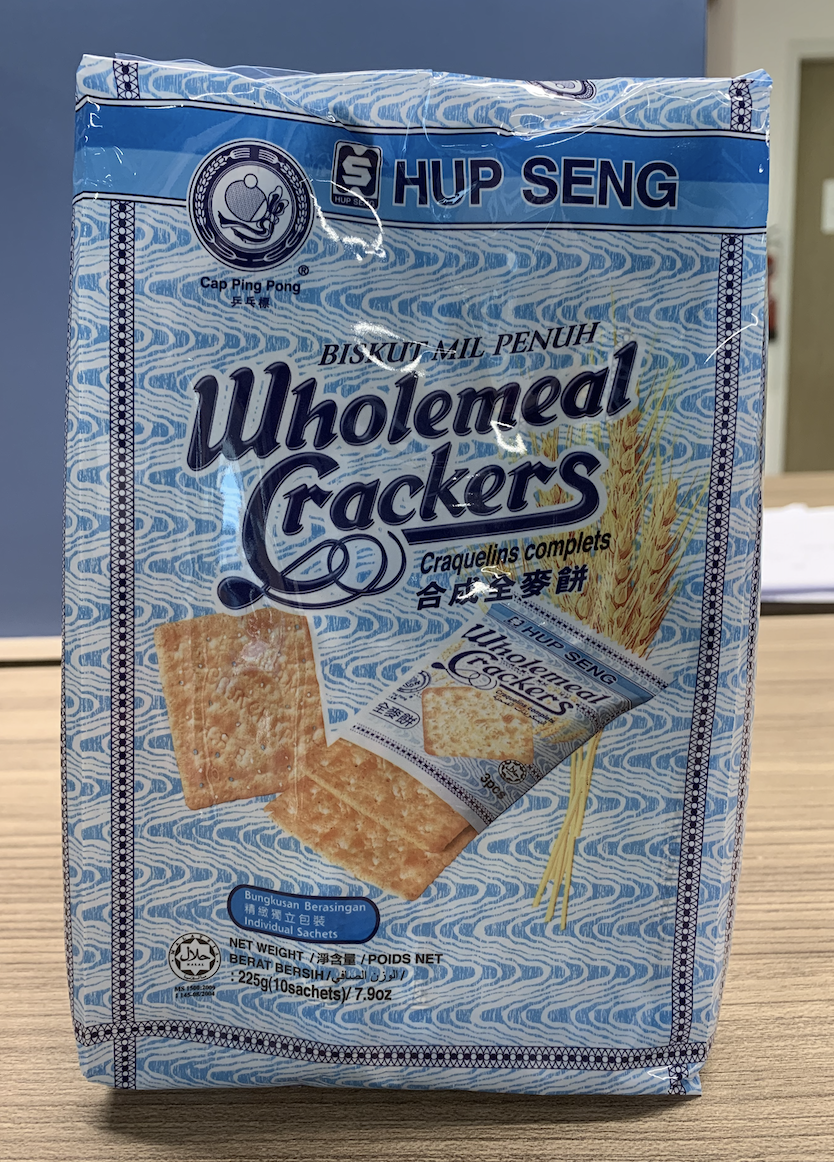crackers_200g-299g: (99, 97, 708, 1061)
